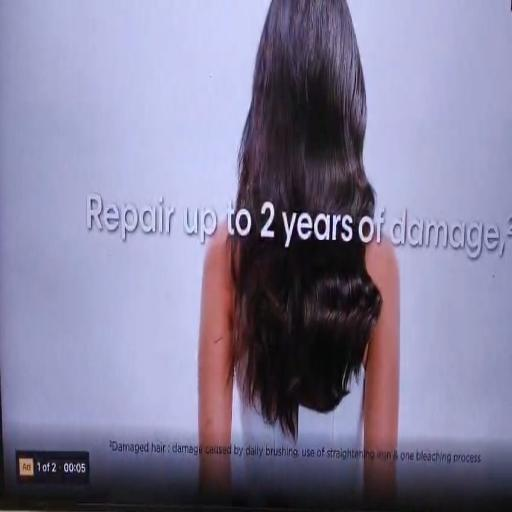ad label: (16, 453, 36, 483)
